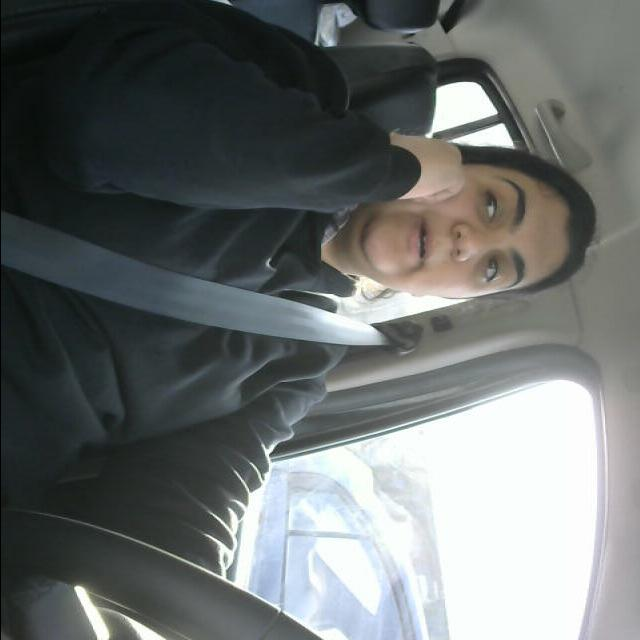mobile use: (372, 133, 467, 215)
